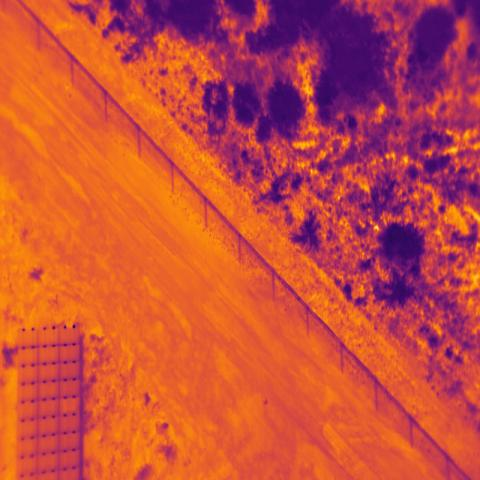fault: (228, 417, 241, 427)
